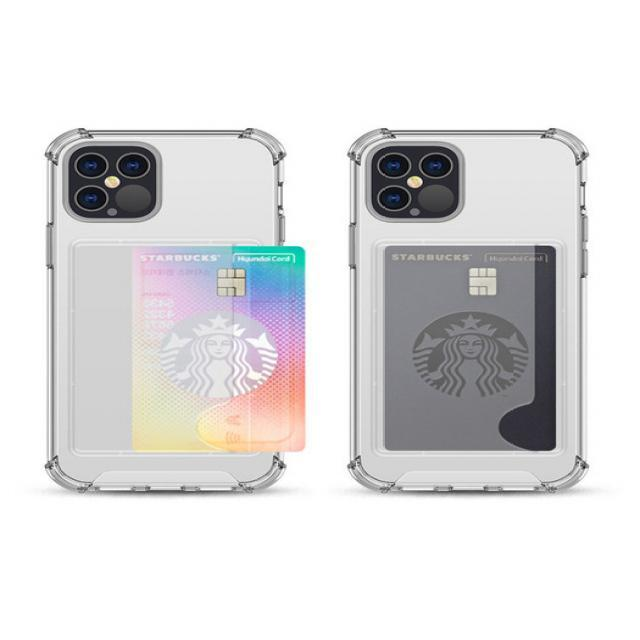phone: (43, 126, 290, 488), (347, 130, 589, 490)
